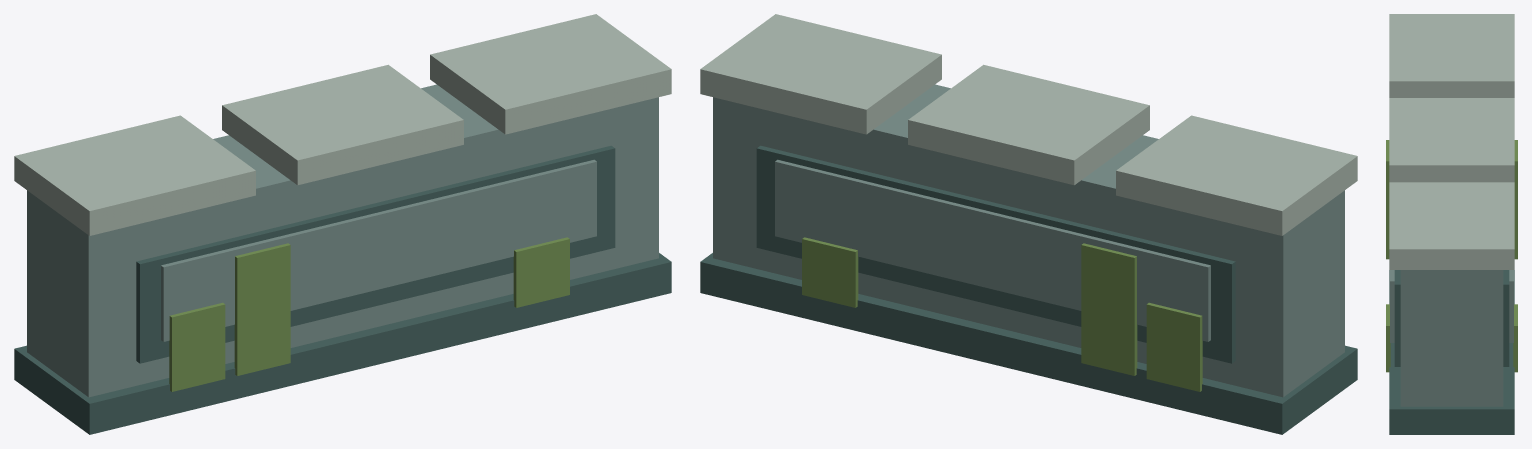
File: sanctuary_wall_variant.glb
3 views of the same model, side by side, from view 1: azimuth 30°, elevation 25°; view 2: azimuth 150°, elevation 25°; view 3: azimuth 270°, elevation 25° (orthographic). The views are drawn at different scales.
Visible parts, largest first — view 1: sanctuary_wall_variant; view 2: sanctuary_wall_variant; view 3: sanctuary_wall_variant.
Part boxes in pixels (x1=…): sanctuary_wall_variant: x1=14, y1=14, x2=671, y2=434; sanctuary_wall_variant: x1=700, y1=14, x2=1357, y2=434; sanctuary_wall_variant: x1=1386, y1=14, x2=1517, y2=434.
Size of the model in its own units: 1.96 by 0.72 by 0.464.
